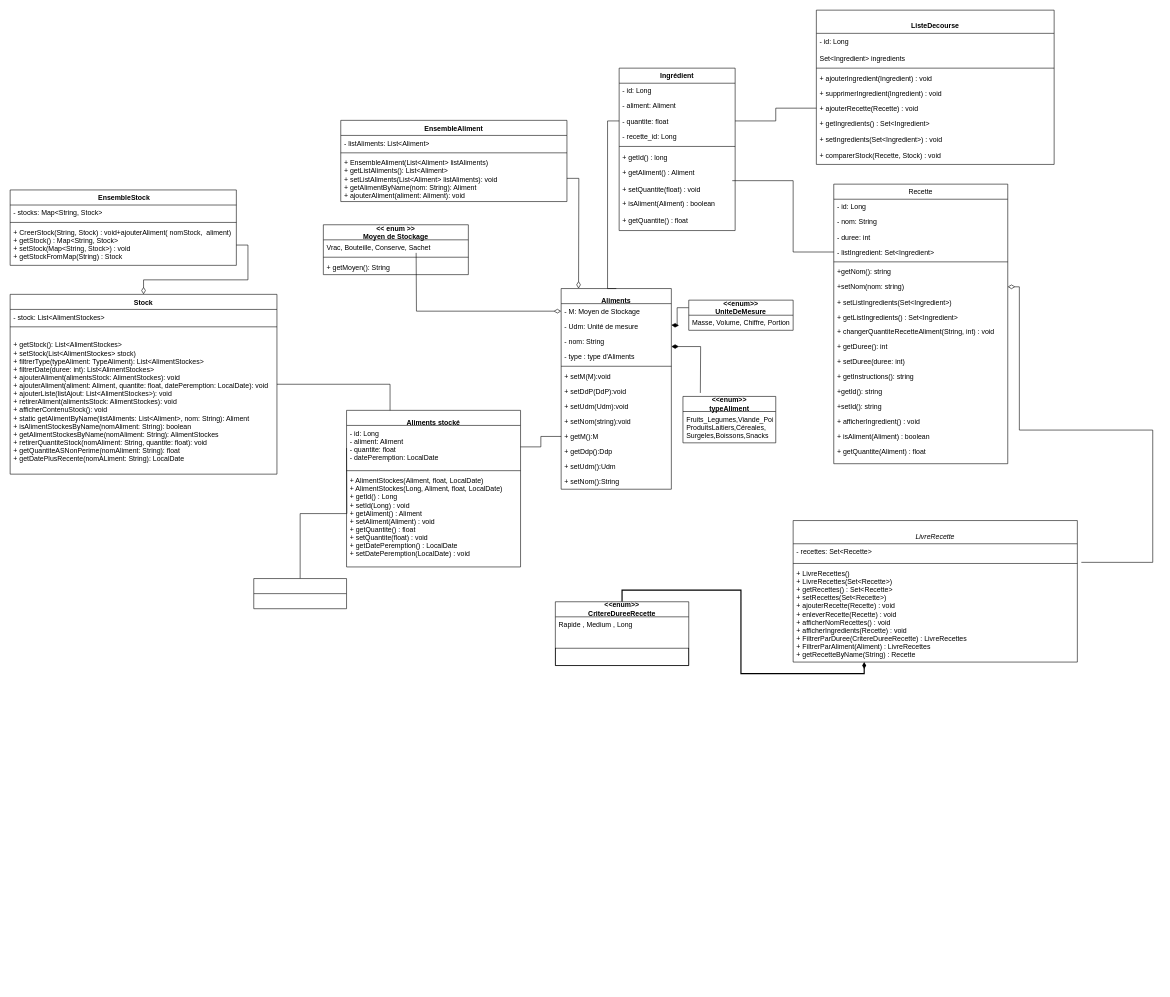
Some shapes in this 1170 by 997 pixel diagram are drawn without their labels. The centre of each missing label's shape, as x and y in pixels:
"+ estDansLaPlage(valeur: int): boolean" belongs at pixel 622 657.
"LocalDate" belongs at pixel 300 593.
